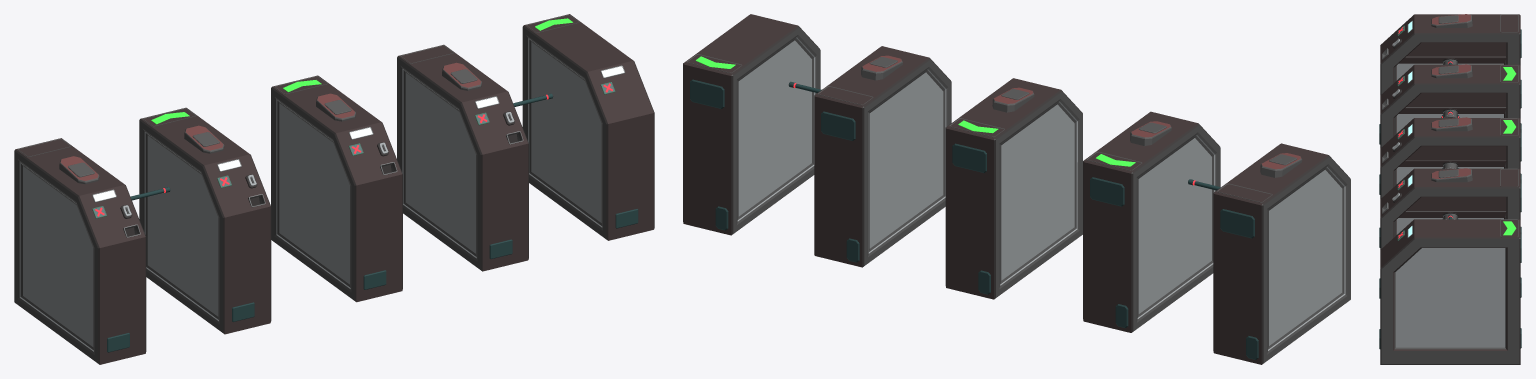
The model's file is maquina_billetes2.fbx.
3 renders of one model, left to right at view 1: azimuth 30°, elevation 25°; view 2: azimuth 150°, elevation 25°; view 3: azimuth 270°, elevation 25°, orthographic. The views are drawn at different scales.
Parts seen in each view (by area): view 1: Cube.485; view 2: Cube.485; view 3: Cube.485.
Part boxes in pixels (x1,y1,x2,y2): Cube.485: (14, 14, 654, 364); Cube.485: (683, 14, 1350, 364); Cube.485: (1379, 14, 1521, 364).
Size of the model in its own units: 7.56 by 2.1 by 2.03.
